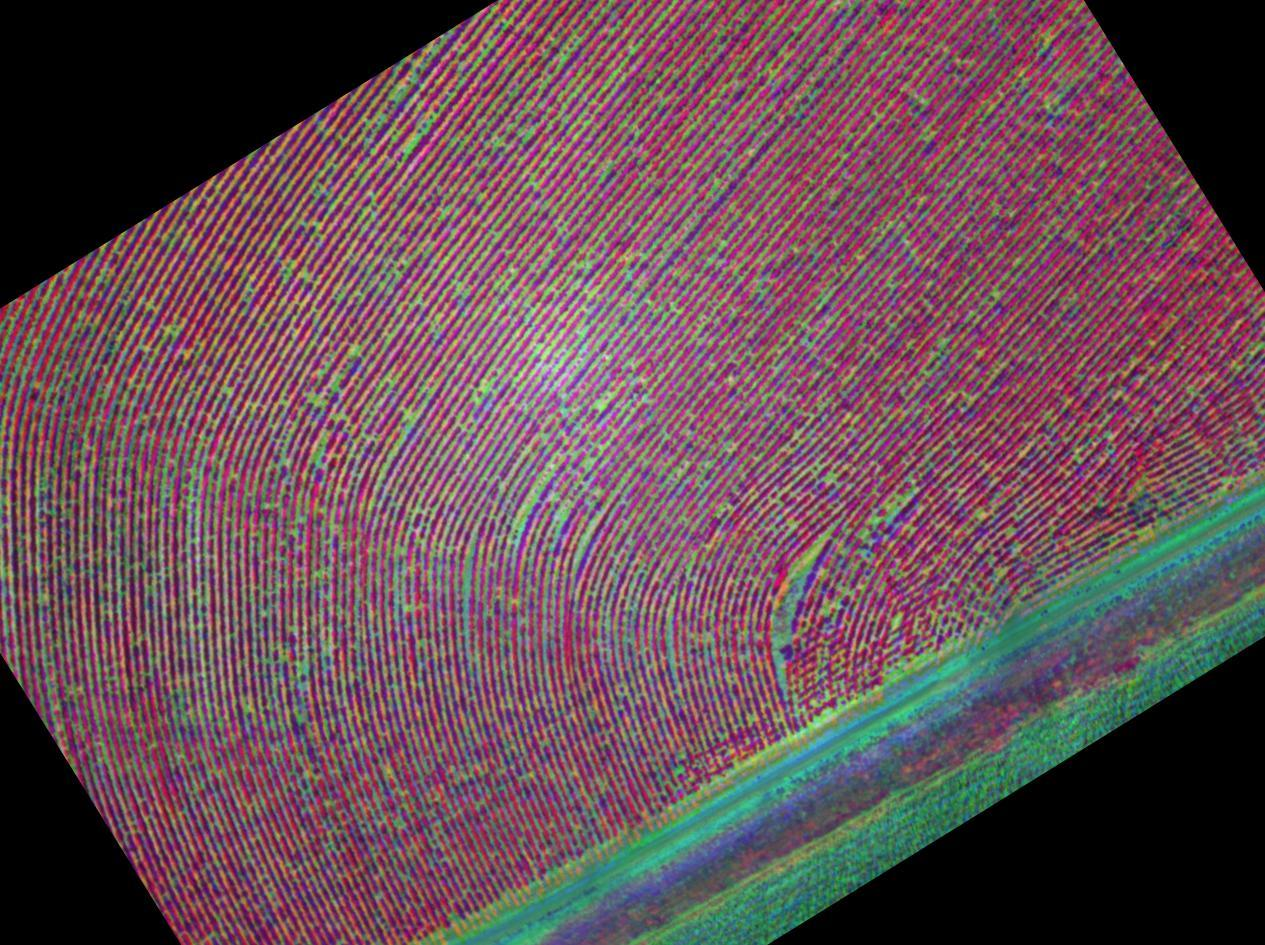dc: (226, 493, 342, 618), (488, 328, 595, 445), (376, 150, 481, 260), (66, 510, 160, 613), (733, 540, 833, 619)
